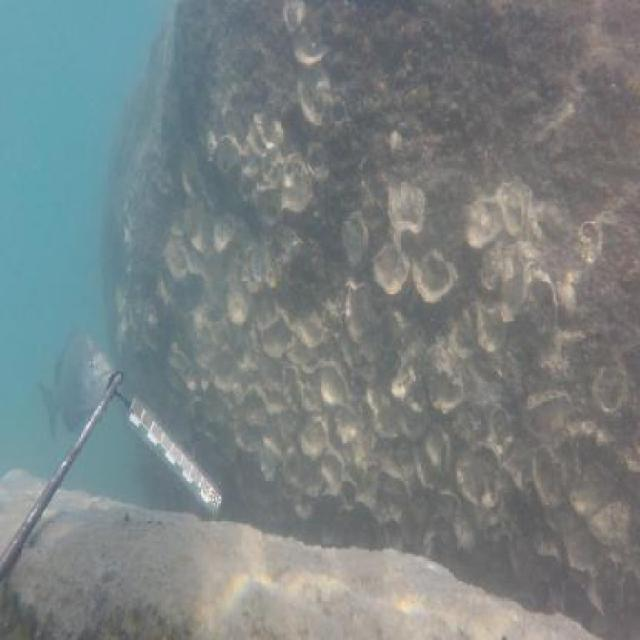acanthopagrus_palmaris: (35, 324, 117, 445)
